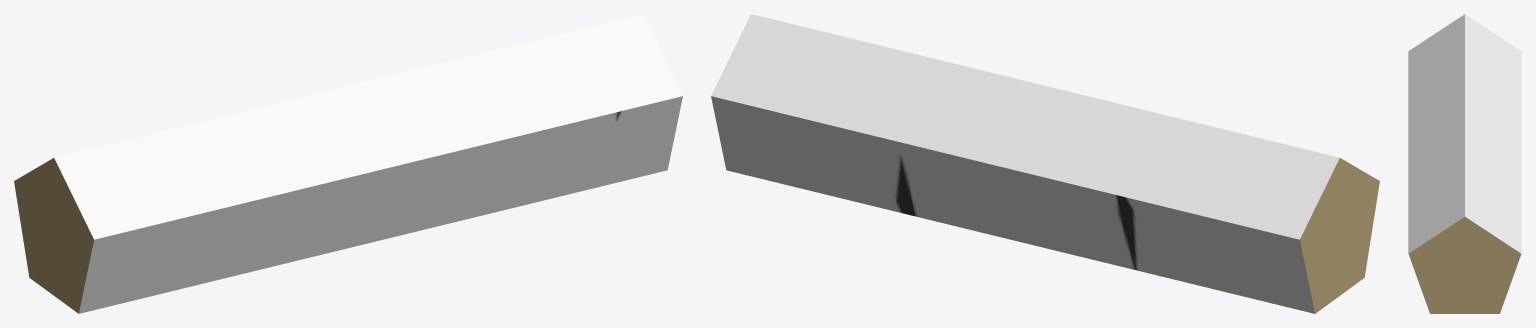
Rendered from Birch_Firewood_Snow_01_LOD.fbx.
3 renders of one model, left to right at view 1: azimuth 30°, elevation 25°; view 2: azimuth 150°, elevation 25°; view 3: azimuth 270°, elevation 25°, orthographic. The views are drawn at different scales.
Visible parts, largest first — view 1: Birch_Firewood_Snow_01_LOD0; view 2: Birch_Firewood_Snow_01_LOD0; view 3: Birch_Firewood_Snow_01_LOD0.
Part boxes in pixels (x1,y1,x2,y2): Birch_Firewood_Snow_01_LOD0: (14, 14, 682, 313); Birch_Firewood_Snow_01_LOD0: (711, 14, 1379, 313); Birch_Firewood_Snow_01_LOD0: (1408, 14, 1521, 313).
Size of what is drawn, in the model's own units: 56 by 12.56 by 13.2.
